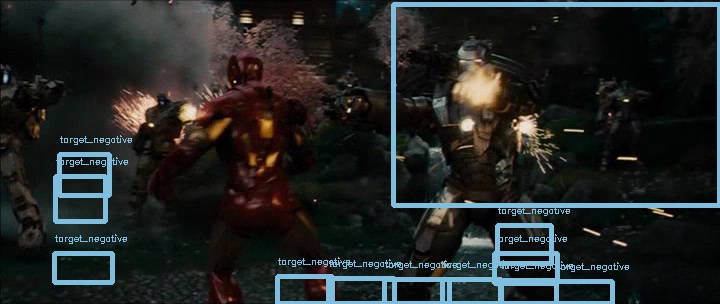person: (223, 55, 259, 85), (222, 55, 258, 85), (224, 55, 260, 85), (223, 54, 259, 84), (223, 56, 259, 86)
target_negative: (403, 6, 687, 179), (84, 76, 689, 121), (460, 21, 527, 246), (592, 224, 700, 295), (693, 7, 702, 223), (468, 52, 470, 226)
